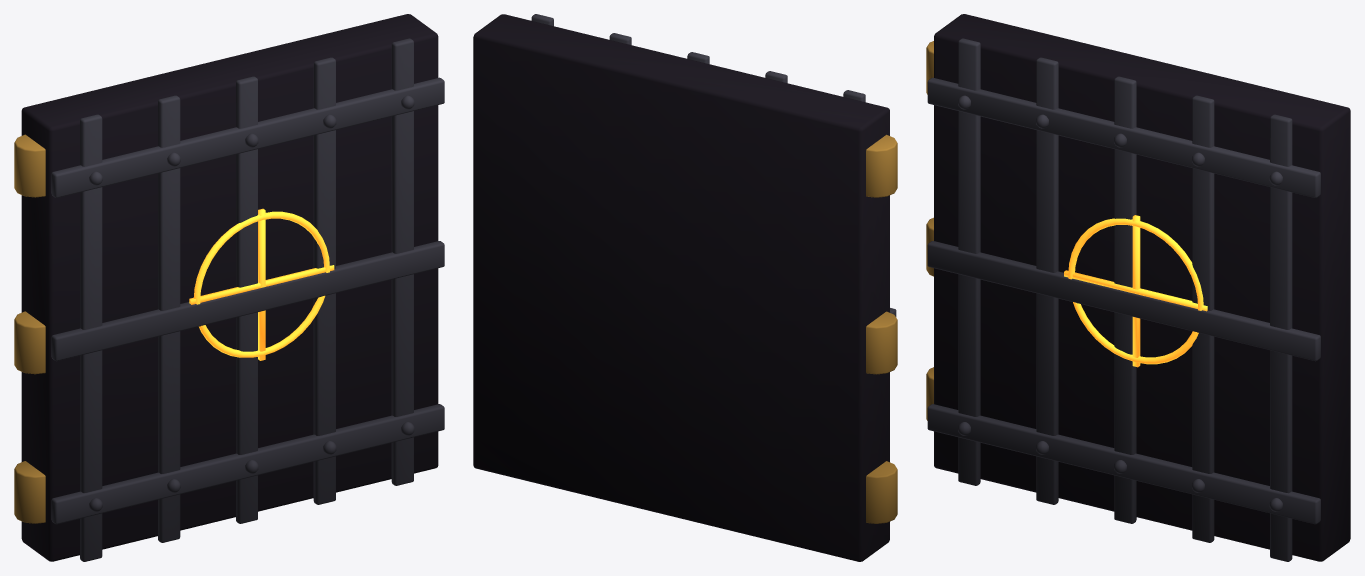
The model's file is gate_leaf.glb.
3 renders of one model, left to right at view 1: azimuth 30°, elevation 25°; view 2: azimuth 150°, elevation 25°; view 3: azimuth 330°, elevation 25°, orthographic.
Visible parts, largest first — view 1: leaf_slab, leaf_bands, leaf_hinge, leaf_rune; view 2: leaf_slab, leaf_hinge, leaf_bands; view 3: leaf_slab, leaf_bands, leaf_rune, leaf_hinge.
Boxes of the visible parts, left/top/right/bottom form: leaf_slab: left=21, top=14, right=438, bottom=561; leaf_bands: left=51, top=38, right=444, bottom=561; leaf_hinge: left=14, top=134, right=45, bottom=523; leaf_rune: left=189, top=208, right=334, bottom=360; leaf_slab: left=473, top=14, right=889, bottom=561; leaf_hinge: left=866, top=134, right=897, bottom=523; leaf_bands: left=531, top=14, right=896, bottom=316; leaf_slab: left=934, top=14, right=1350, bottom=561; leaf_bands: left=927, top=38, right=1320, bottom=561; leaf_rune: left=1064, top=215, right=1207, bottom=367; leaf_hinge: left=926, top=41, right=933, bottom=420.
Bounding box in the file's own units: 6.28 × 6.5 × 1.07.
